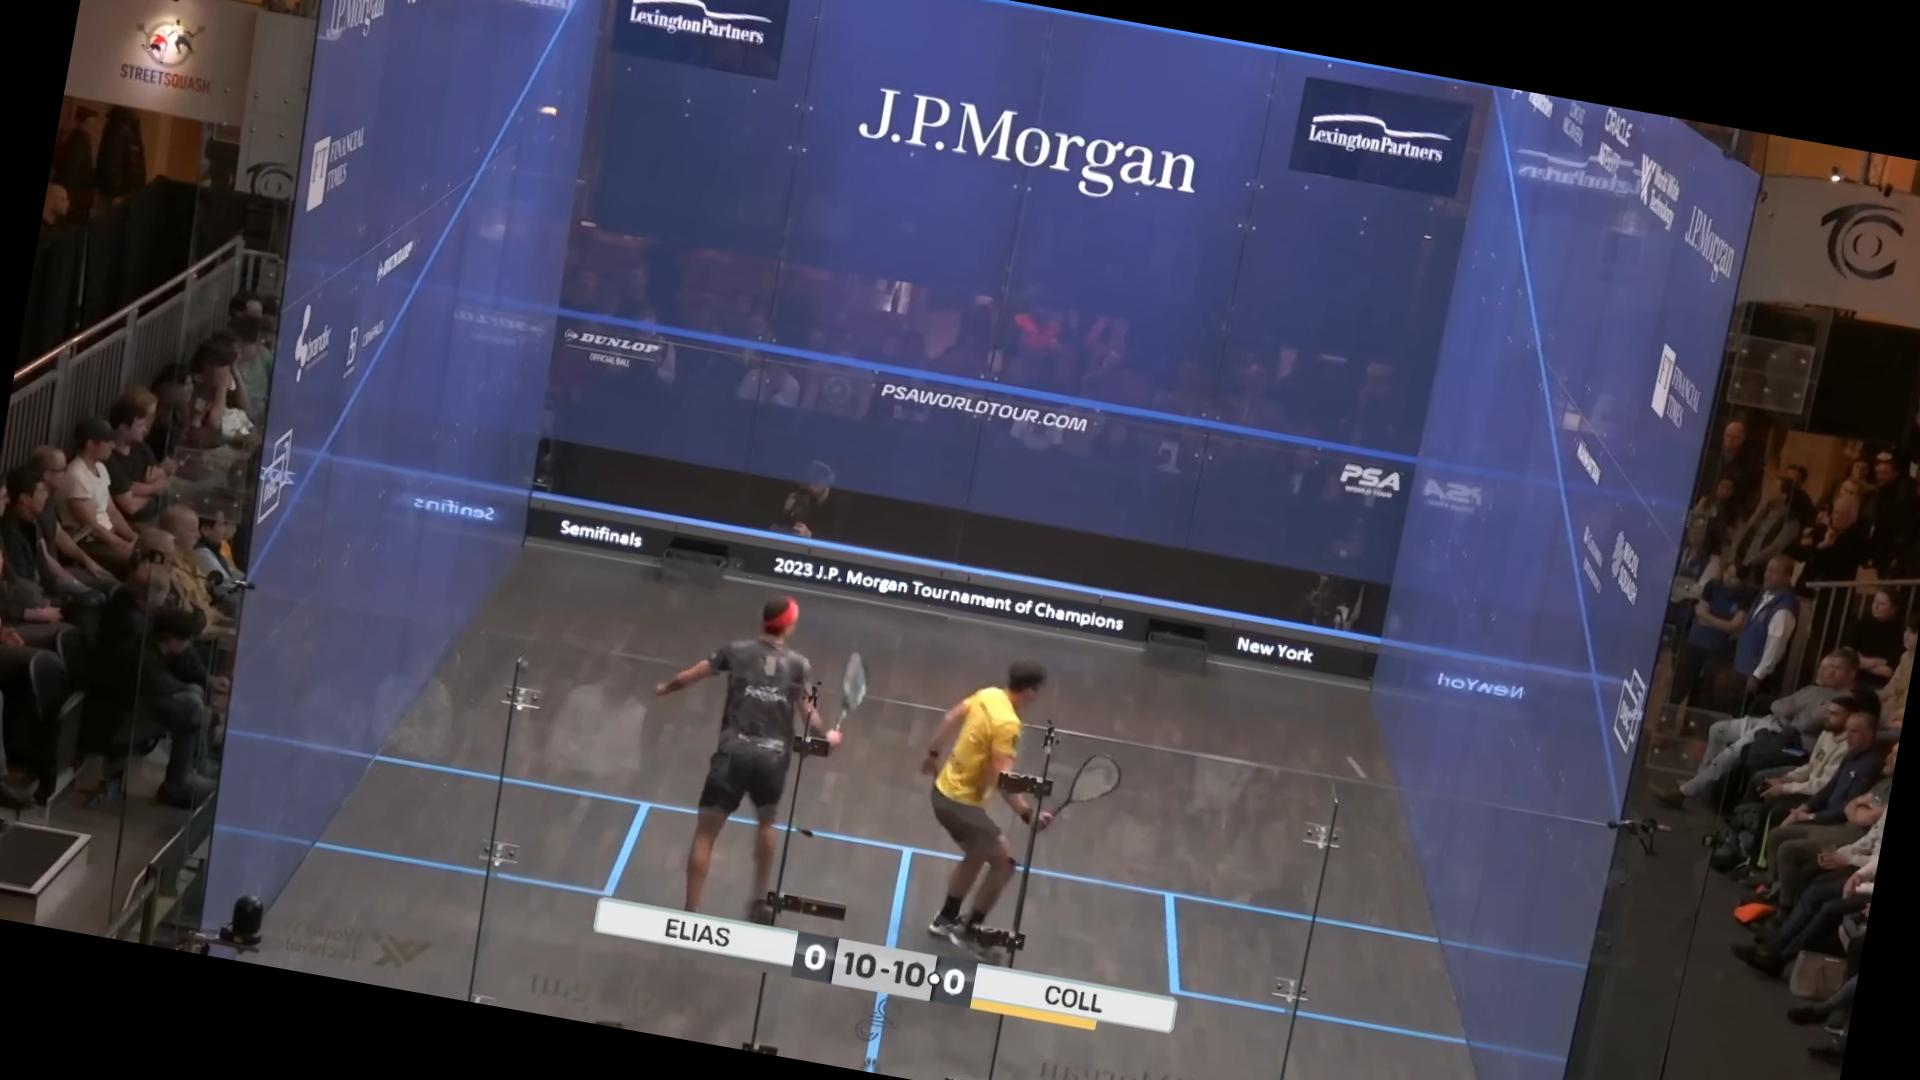Racket: (1036, 735, 1145, 825), (804, 608, 882, 716)
